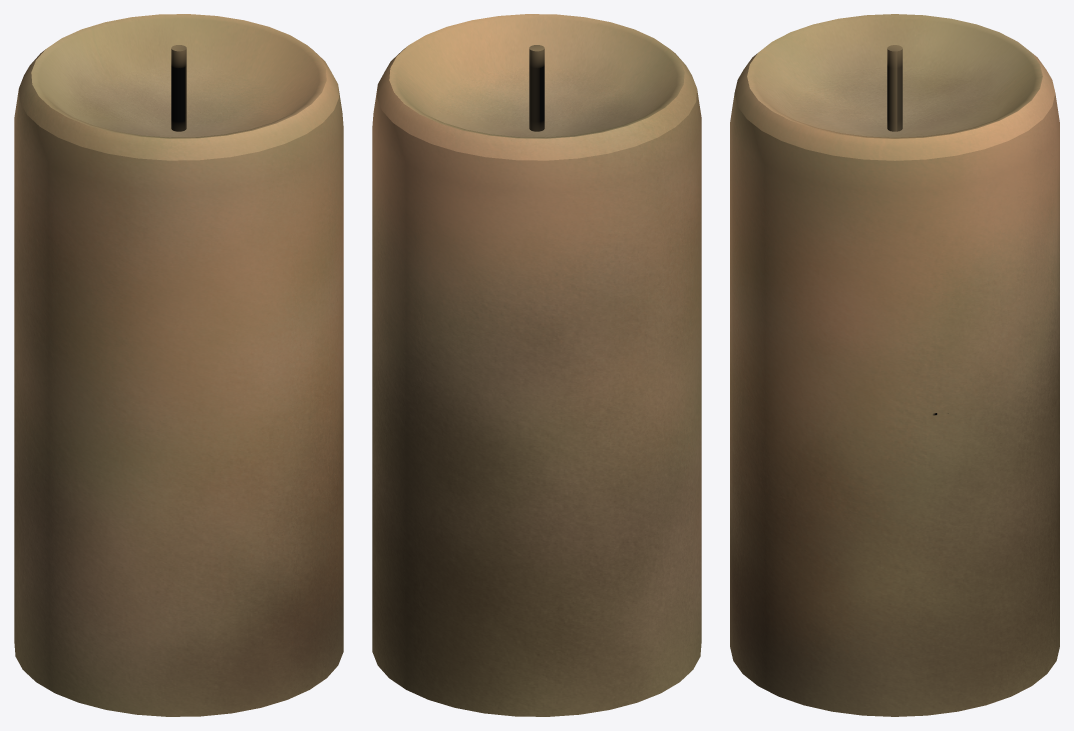
The model's file is TEXTURED CANDLE 2.fbx.
The picture shows the model from 3 angles, left to right: view 1: azimuth 30°, elevation 25°; view 2: azimuth 150°, elevation 25°; view 3: azimuth 270°, elevation 25°; orthographic projection.
Visible parts, largest first — view 1: candle2; view 2: candle2; view 3: candle2.
Part boxes in pixels (bbox=[...]): candle2: bbox=[14, 14, 343, 716]; candle2: bbox=[372, 14, 701, 716]; candle2: bbox=[730, 14, 1059, 716].
Size of the model in its own units: 0.00332 by 0.00665 by 0.00332.
